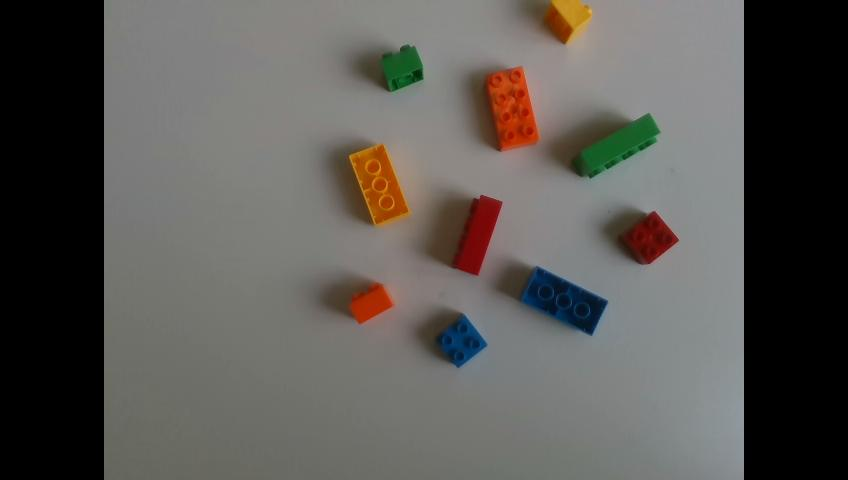2x2_blue: (439, 315, 487, 365)
2x2_green: (377, 44, 423, 90)
2x2_orange: (347, 281, 395, 325)
2x2_red: (623, 208, 679, 263)
2x2_yellow: (546, 0, 591, 41)
4x2_blue: (521, 266, 607, 332)
4x2_green: (576, 113, 659, 177)
4x2_orange: (483, 66, 539, 150)
4x2_red: (452, 194, 501, 272)
4x2_yellow: (350, 143, 410, 224)
